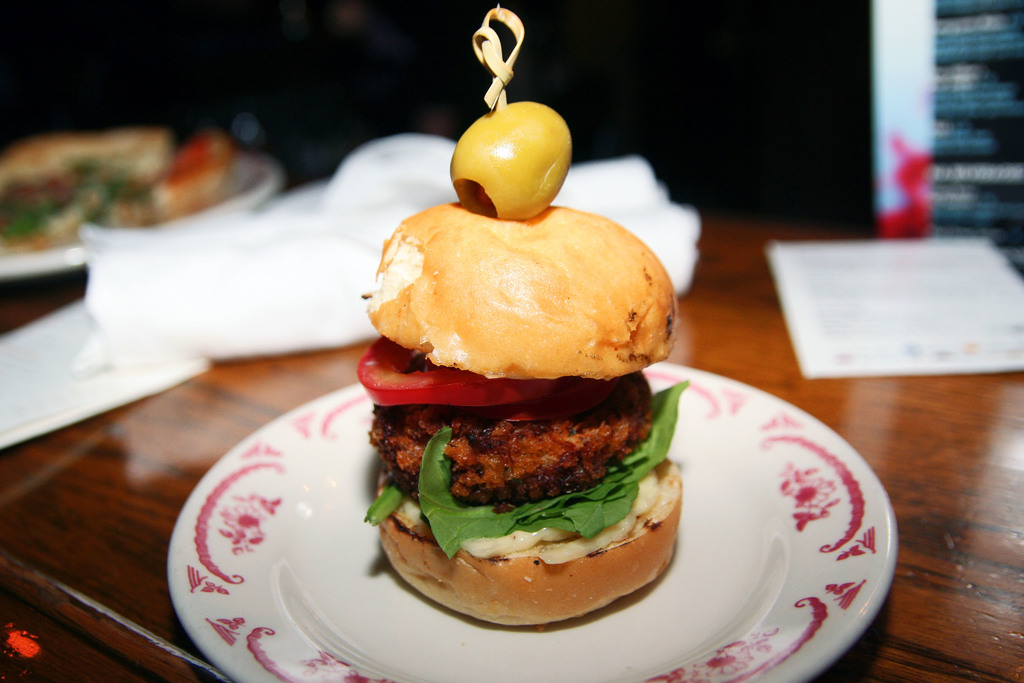Hamburger: (357, 99, 689, 628), (0, 131, 167, 251)
